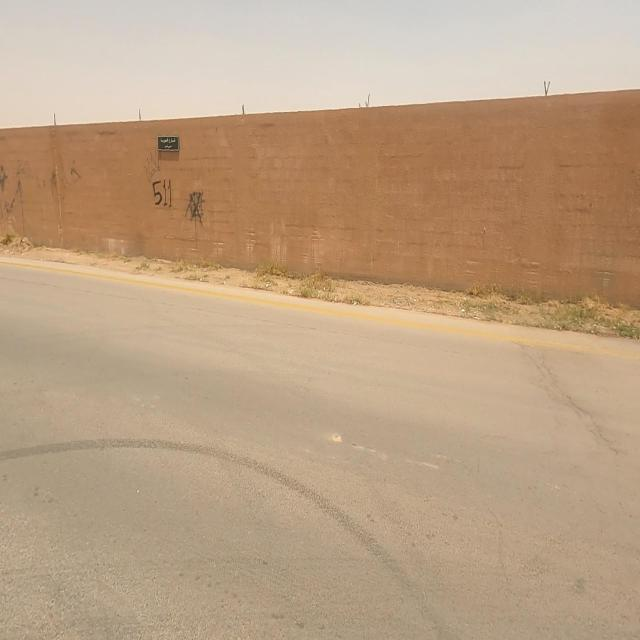Graffiti: (1, 156, 80, 217), (152, 177, 174, 212), (187, 191, 206, 227), (143, 144, 160, 181)
